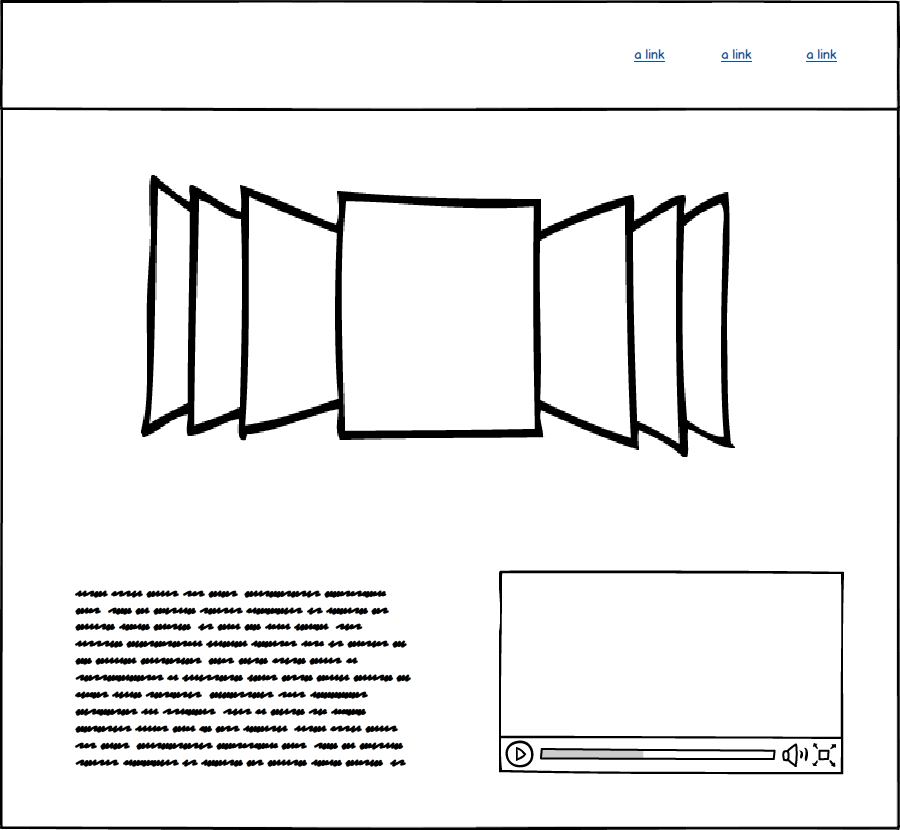navlink: (717, 39, 773, 74), (630, 43, 670, 69), (802, 43, 840, 67)
p: (66, 578, 423, 780)
slideshow: (135, 167, 740, 466)
video: (490, 563, 851, 781)
